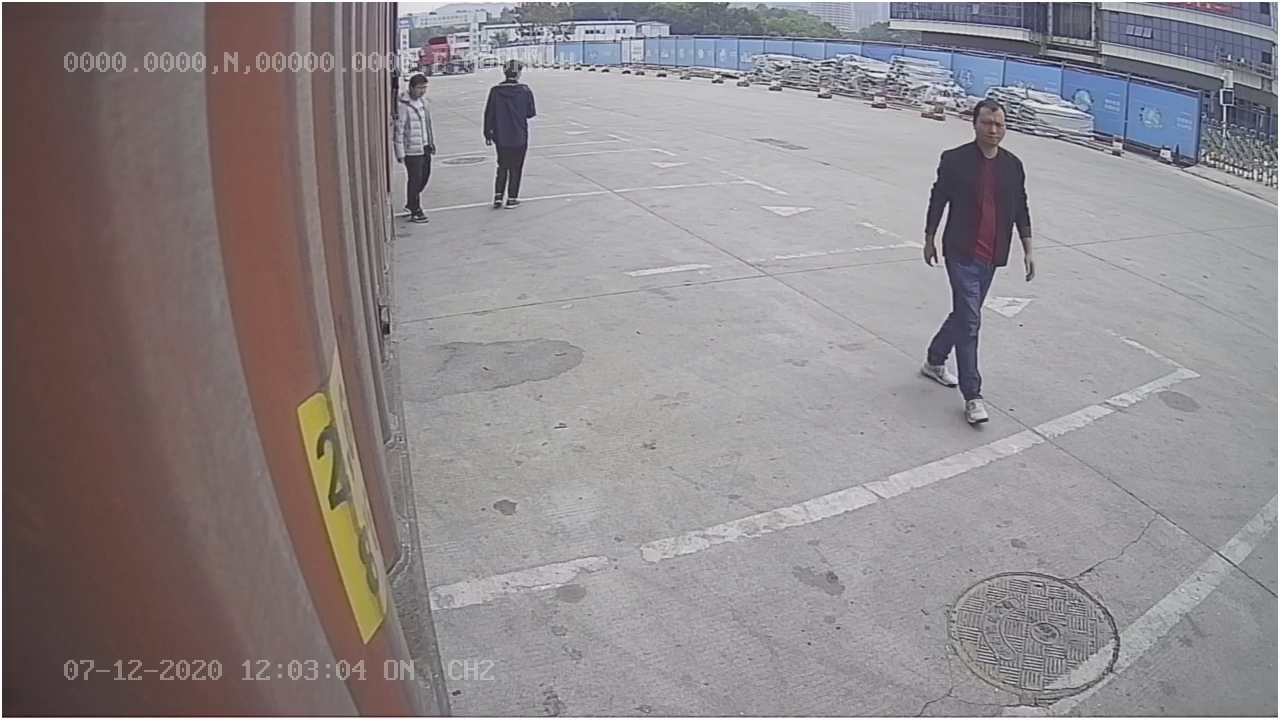person: (925, 91, 1041, 427)
